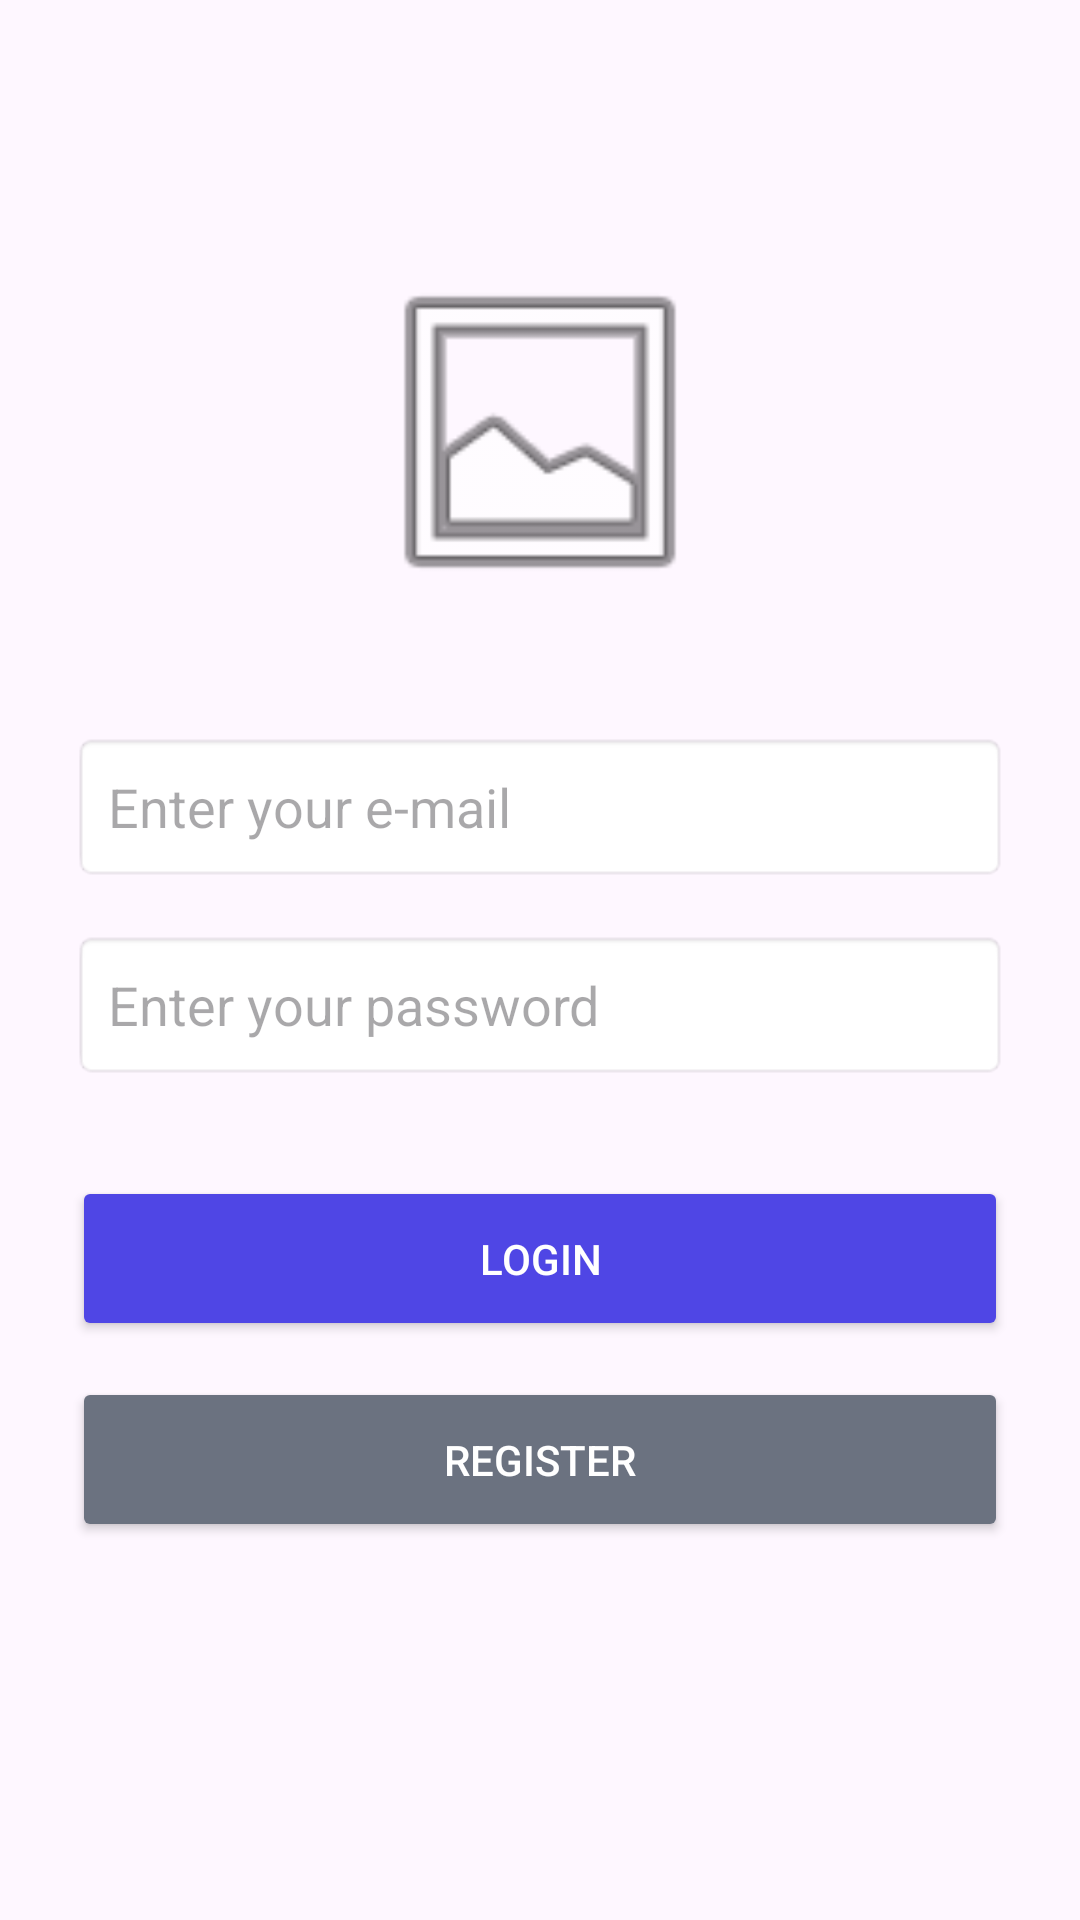

Named icons in this screenshot (1080*1920) and their bounding boxes, {"x1": x1, "y1": y1, "x2": x2, "y2": y2}:
gallery: {"x1": 404, "y1": 296, "x2": 676, "y2": 568}
